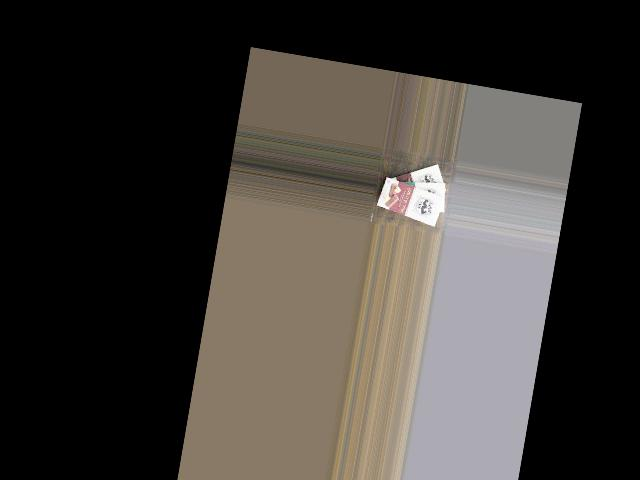chocolate: (378, 154, 451, 207)
